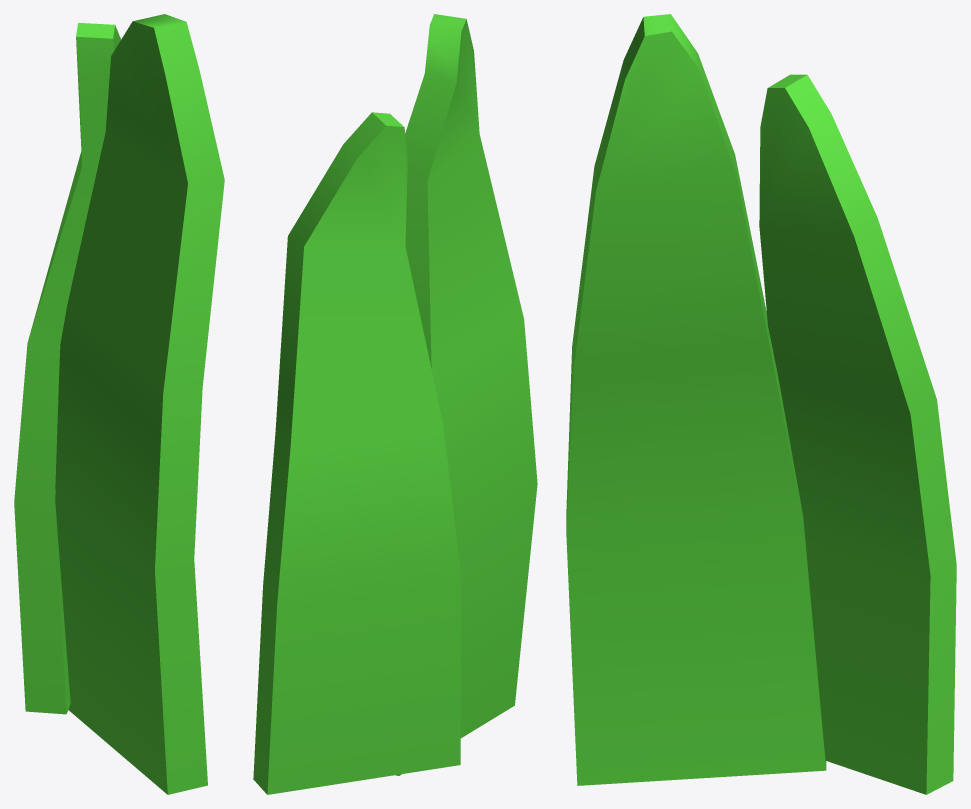
File: grass1.fbx
The picture shows the model from 3 angles, left to right: view 1: azimuth 30°, elevation 25°; view 2: azimuth 150°, elevation 25°; view 3: azimuth 270°, elevation 25°; orthographic projection. The views are drawn at different scales.
Visible parts, largest first — view 1: grass1; view 2: grass1; view 3: grass1.
Boxes of the visible parts, bbox=[...] form: grass1: bbox=[14, 14, 224, 794]; grass1: bbox=[253, 14, 537, 794]; grass1: bbox=[566, 14, 956, 794].
Size of the model in its own units: 0.0728 by 0.3379 by 0.1577.
